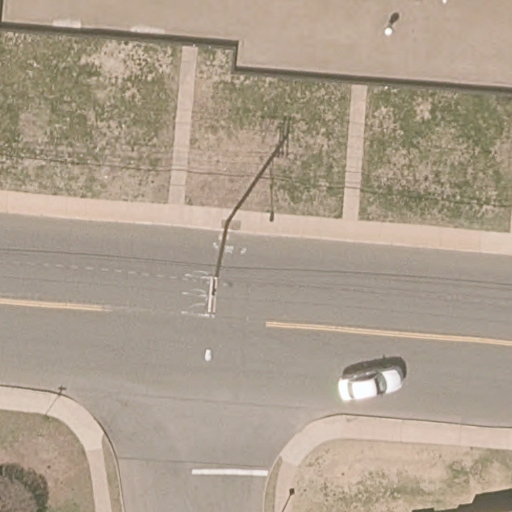DT: (182, 223, 229, 321)
